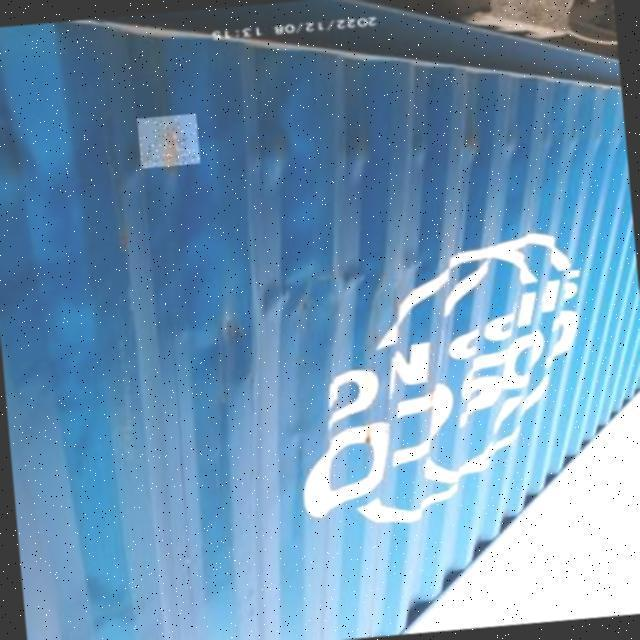rust: (138, 114, 201, 169)
